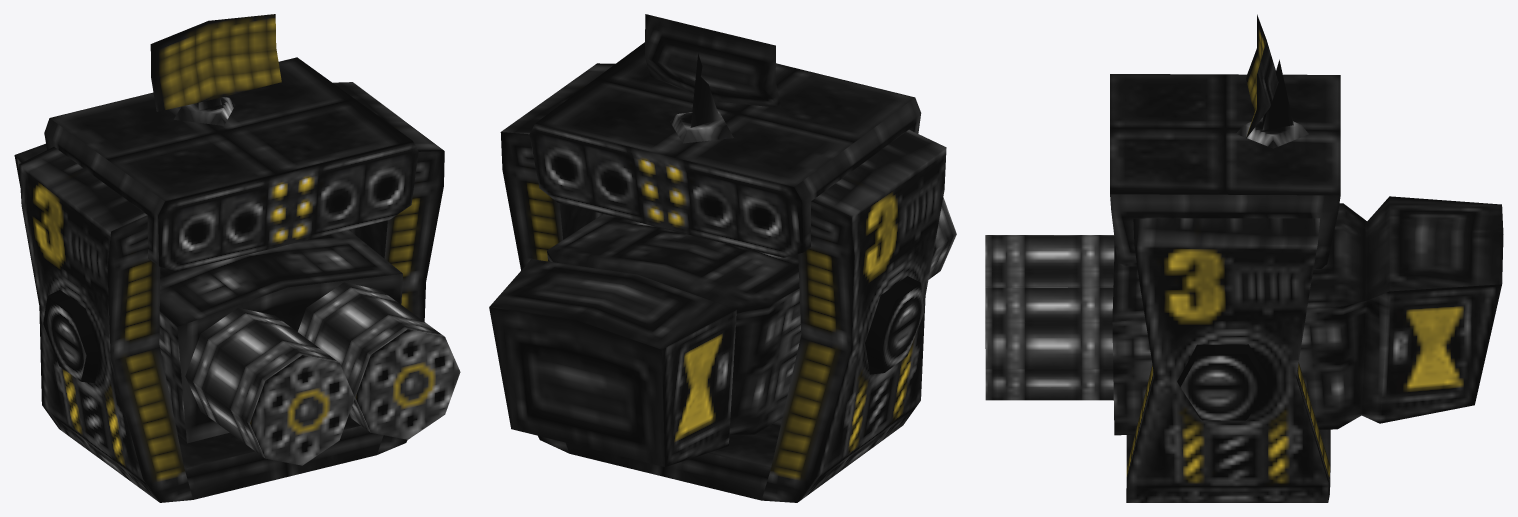
File: sentry3.glb
3 renders of one model, left to right at view 1: azimuth 30°, elevation 25°; view 2: azimuth 150°, elevation 25°; view 3: azimuth 270°, elevation 25°, orthographic. The views are drawn at different scales.
Parts seen in each view (by area): view 1: sentry3; view 2: sentry3; view 3: sentry3.
Boxes of the visible parts, bbox=[...] form: sentry3: bbox=[14, 14, 460, 502]; sentry3: bbox=[489, 14, 956, 502]; sentry3: bbox=[985, 14, 1503, 502].
Size of the model in its own units: 39.11 by 43.46 by 50.22.
Materials: 2 (2 with a texture image).
